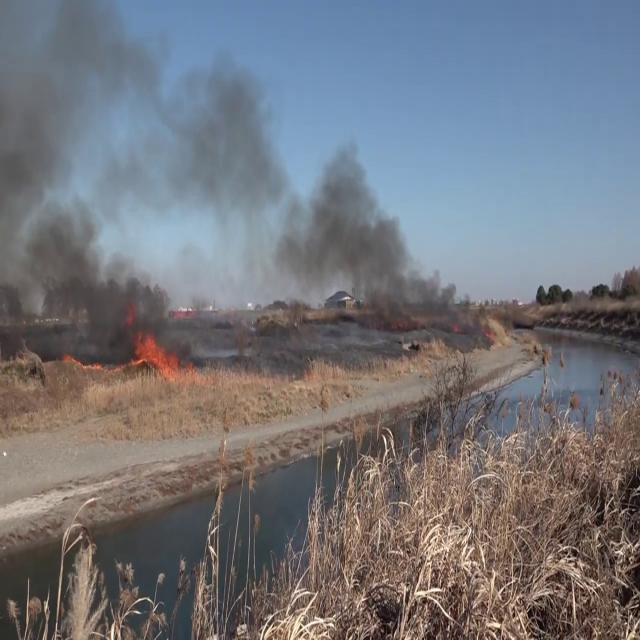Fire: (130, 326, 196, 381)
Smoke: (0, 0, 462, 327)
